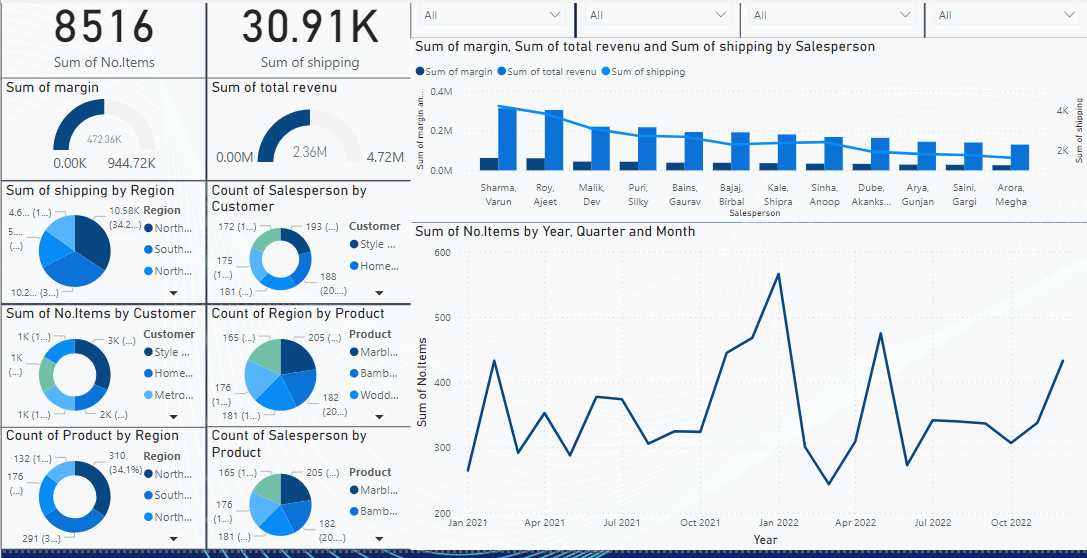

The dashboard page shown, as its layout file describes it:
{"tool":"powerbi","page":{"name":"Page 1","canvas":[1280,720],"ordinal":0},"visuals":[{"type":"textbox","box":[0,0,1272,48],"z":0},{"type":"card","fields":{"Values":["Raw_Data.No.Items"]},"box":[0,48,240,120],"z":1000},{"type":"card","fields":{"Values":["Raw_Data.shipping"]},"box":[240,48,240,120],"z":2000},{"type":"gauge","fields":{"Y":["Raw_Data.margin"]},"box":[0,168,240,120],"z":3000},{"type":"gauge","fields":{"Y":["Raw_Data.total revenu"]},"box":[240,168,240,120],"z":4000},{"type":"slicer","fields":{"Values":["Raw_Data.Salesperson"]},"box":[1080,48,192,72],"z":5000},{"type":"slicer","fields":{"Values":["Raw_Data.Product"]},"box":[672,48,192,72],"z":6000},{"type":"slicer","fields":{"Values":["Raw_Data.Region"]},"box":[864,48,216,72],"z":7000},{"type":"slicer","fields":{"Values":["Raw_Data.Customer"]},"box":[480,48,192,72],"z":8000},{"type":"pieChart","fields":{"Category":["Raw_Data.Product"],"Y":["Raw_Data.Region"]},"box":[240,432,240,144],"z":9000},{"type":"donutChart","fields":{"Category":["Raw_Data.Region"],"Y":["Raw_Data.Product"]},"box":[0,576,240,144],"z":10000},{"type":"donutChart","fields":{"Category":["Raw_Data.Customer"],"Y":["Raw_Data.Salesperson"]},"box":[240,288,240,144],"z":11000},{"type":"pieChart","fields":{"Category":["Raw_Data.Product"],"Y":["Raw_Data.Salesperson"]},"box":[240,576,240,144],"z":12000},{"type":"pieChart","fields":{"Category":["Raw_Data.Region"],"Y":["Raw_Data.shipping"]},"box":[0,288,240,144],"z":13000},{"type":"donutChart","fields":{"Category":["Raw_Data.Customer"],"Y":["Raw_Data.No.Items"]},"box":[0,432,240,144],"z":14000},{"type":"lineChart","fields":{"Category":["Raw_Data.Date.Variation.Date Hierarchy.Year","Raw_Data.Date.Variation.Date Hierarchy.Quarter","Raw_Data.Date.Variation.Date Hierarchy.Month","Raw_Data.Date.Variation.Date Hierarchy.Day"],"Y":["Raw_Data.No.Items"]},"box":[480.3,309.8,793,383.7],"z":15000},{"type":"lineClusteredColumnComboChart","fields":{"Category":["Raw_Data.Salesperson"],"Y":["Raw_Data.margin","Raw_Data.total revenu"],"Y2":["Raw_Data.shipping"]},"box":[486,93.8,793,216],"z":16000}]}

Visuals, with their boxes on the page's 1280x720 design canvas (x1, y1, x2, y2). These are canvas units, not pixel positions in the 1087x558 screenshot, which may show the page scaled, cropped or inside an application window:
textbox: {"x1": 0, "y1": 0, "x2": 1272, "y2": 48}
card - Raw_Data.No.Items: {"x1": 0, "y1": 48, "x2": 240, "y2": 168}
card - Raw_Data.shipping: {"x1": 240, "y1": 48, "x2": 480, "y2": 168}
gauge - Raw_Data.margin: {"x1": 0, "y1": 168, "x2": 240, "y2": 288}
gauge - Raw_Data.total revenu: {"x1": 240, "y1": 168, "x2": 480, "y2": 288}
slicer - Raw_Data.Salesperson: {"x1": 1080, "y1": 48, "x2": 1272, "y2": 120}
slicer - Raw_Data.Product: {"x1": 672, "y1": 48, "x2": 864, "y2": 120}
slicer - Raw_Data.Region: {"x1": 864, "y1": 48, "x2": 1080, "y2": 120}
slicer - Raw_Data.Customer: {"x1": 480, "y1": 48, "x2": 672, "y2": 120}
pieChart - Raw_Data.Product x Raw_Data.Region: {"x1": 240, "y1": 432, "x2": 480, "y2": 576}
donutChart - Raw_Data.Region x Raw_Data.Product: {"x1": 0, "y1": 576, "x2": 240, "y2": 720}
donutChart - Raw_Data.Customer x Raw_Data.Salesperson: {"x1": 240, "y1": 288, "x2": 480, "y2": 432}
pieChart - Raw_Data.Product x Raw_Data.Salesperson: {"x1": 240, "y1": 576, "x2": 480, "y2": 720}
pieChart - Raw_Data.Region x Raw_Data.shipping: {"x1": 0, "y1": 288, "x2": 240, "y2": 432}
donutChart - Raw_Data.Customer x Raw_Data.No.Items: {"x1": 0, "y1": 432, "x2": 240, "y2": 576}
lineChart - Raw_Data.Date.Variation.Date Hierarchy.Year x Raw_Data.Date.Variation.Date Hierarchy.Quarter: {"x1": 480, "y1": 310, "x2": 1273, "y2": 694}
lineClusteredColumnComboChart - Raw_Data.Salesperson x Raw_Data.margin: {"x1": 486, "y1": 94, "x2": 1279, "y2": 310}
